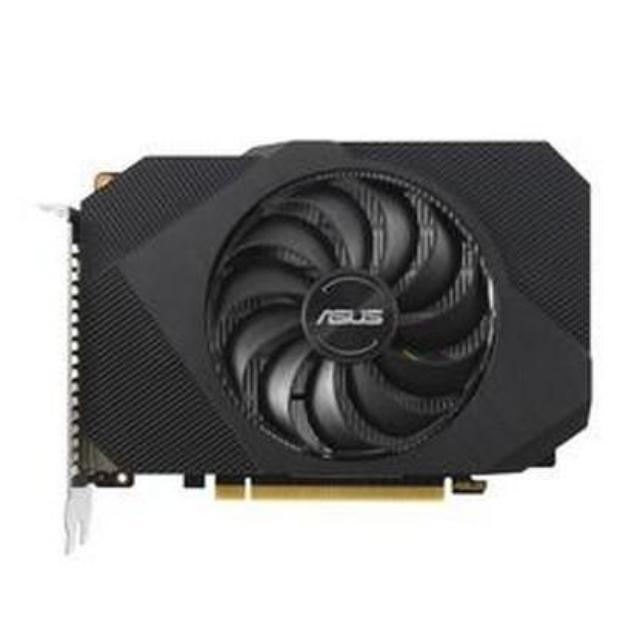GPU: (70, 133, 592, 498)
